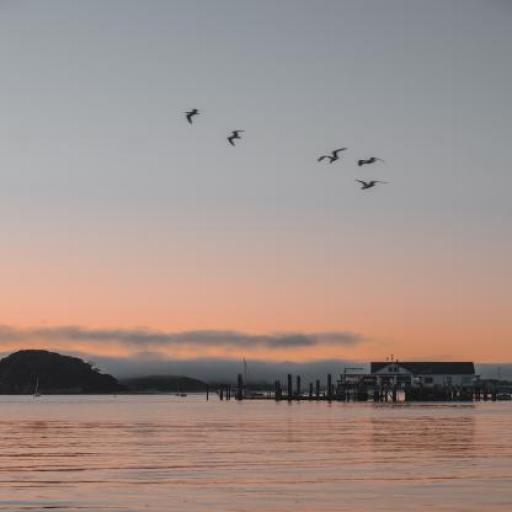bird: (315, 145, 351, 165), (357, 178, 391, 191), (357, 156, 385, 168), (182, 108, 202, 124), (228, 130, 245, 148)
